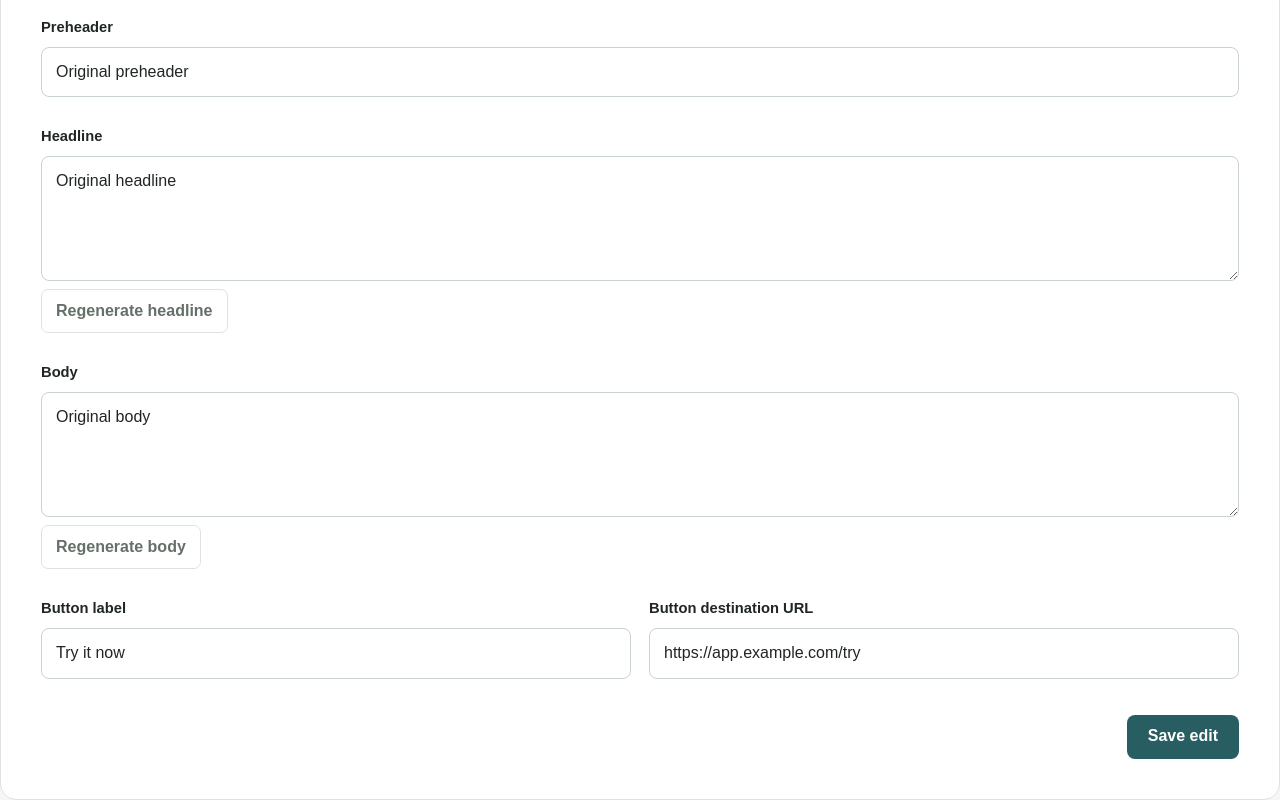
Test: EditDraftPanel › preserves entered values and shows a safe error on a 400 validation failure
(page scrolled)
Replace the text in the field labelled "Button destination URL" with "javascript:alert(1)": x=944, y=653 [649,628,1239,679]
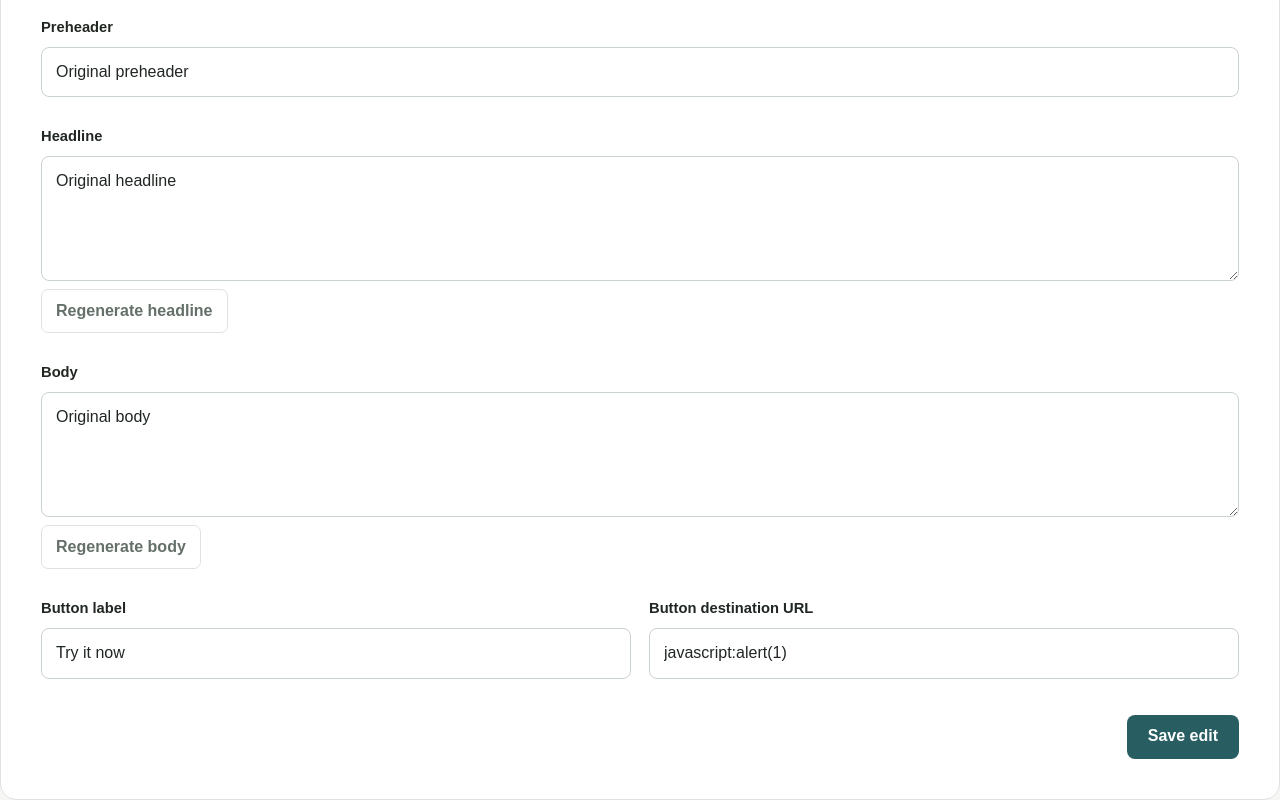
Click the button "Save edit": x=1183, y=736 [1127,714,1239,758]
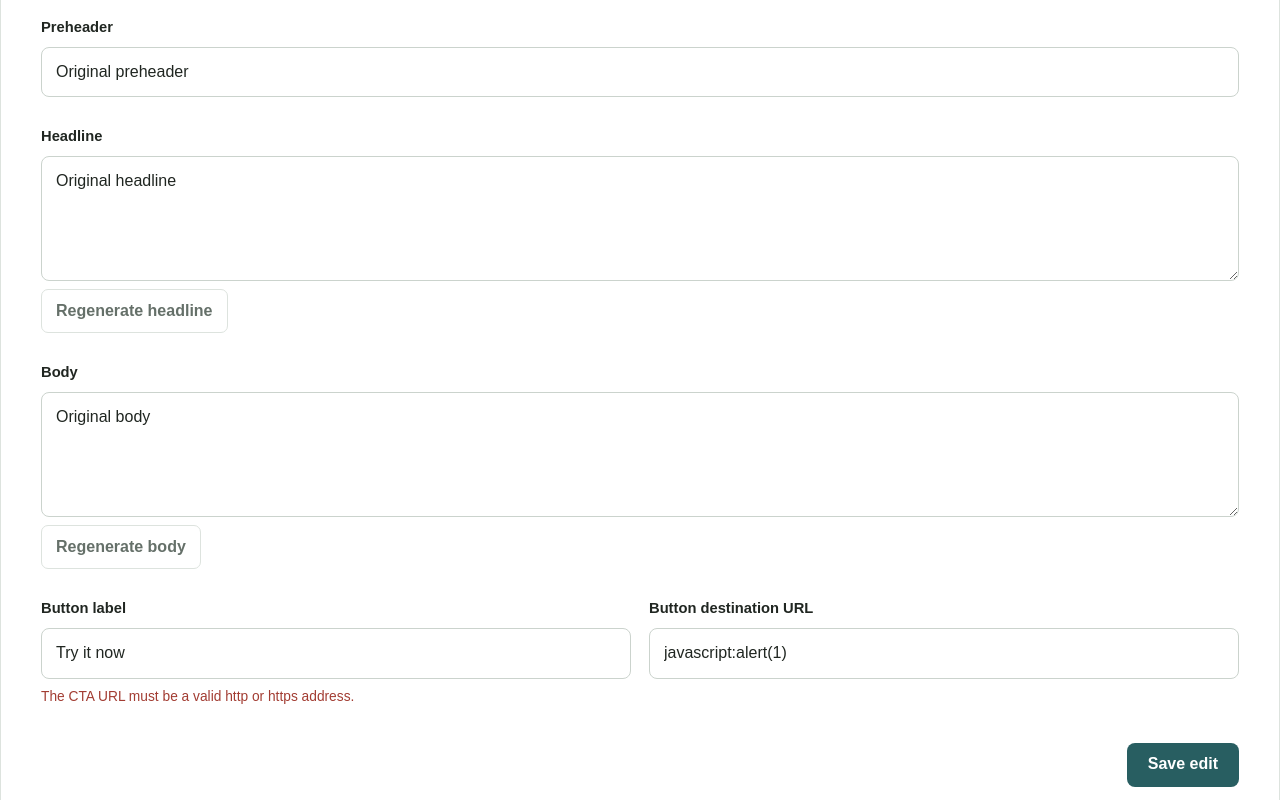
Expected: the text "The CTA URL must be a valid http or https address." is shown, [41,688,354,704]
